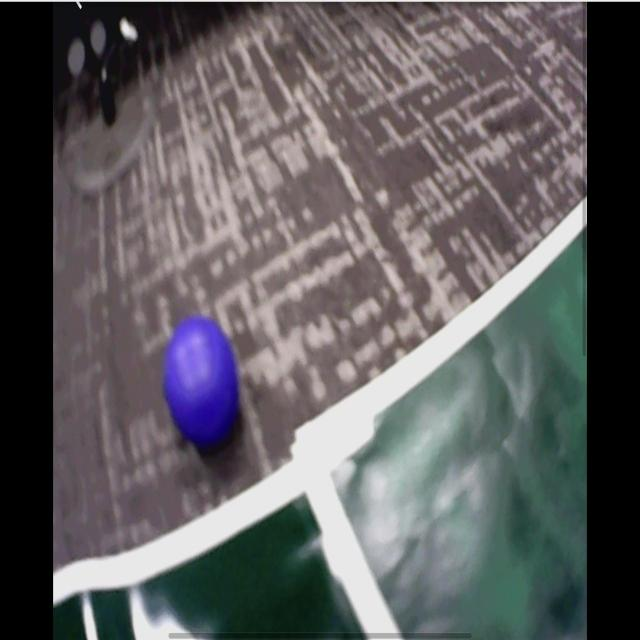ball: (163, 319, 240, 447)
